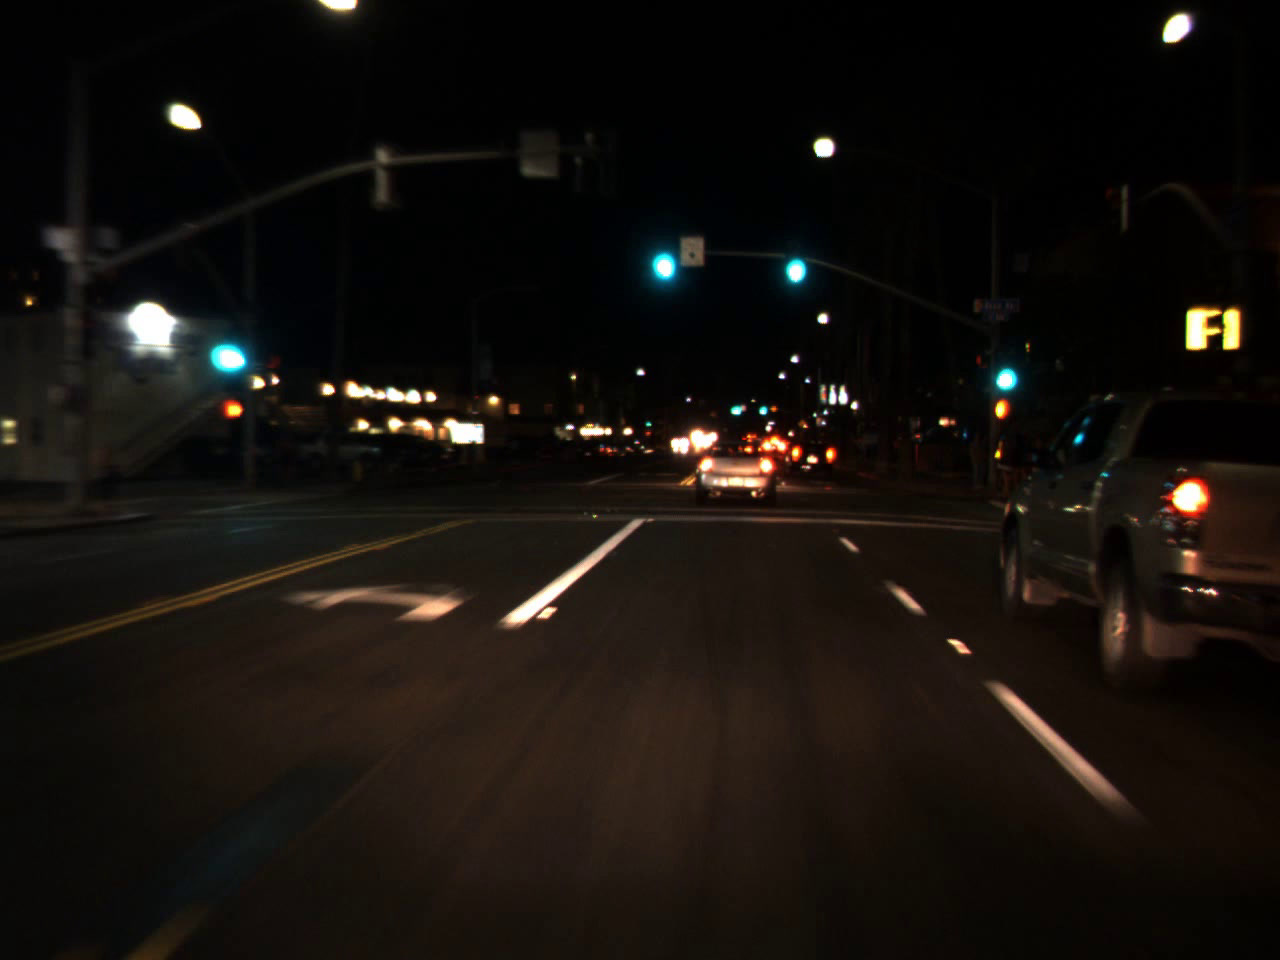go: (198, 306, 250, 384), (642, 216, 681, 291), (778, 227, 810, 293), (986, 339, 1020, 399), (728, 399, 742, 414), (757, 399, 767, 414), (645, 416, 652, 428)
